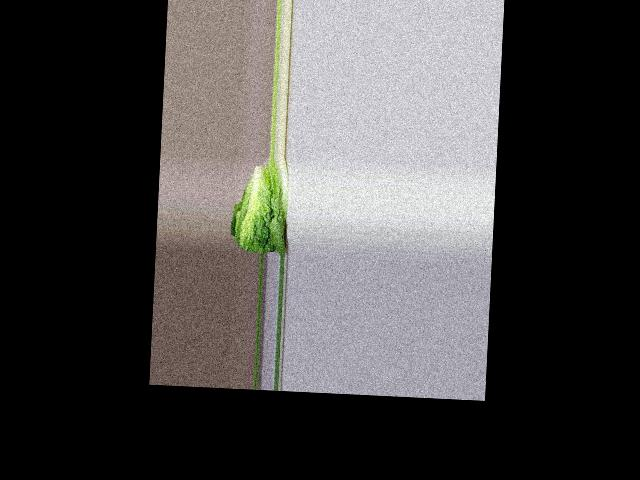lettuce: (236, 159, 292, 255)
